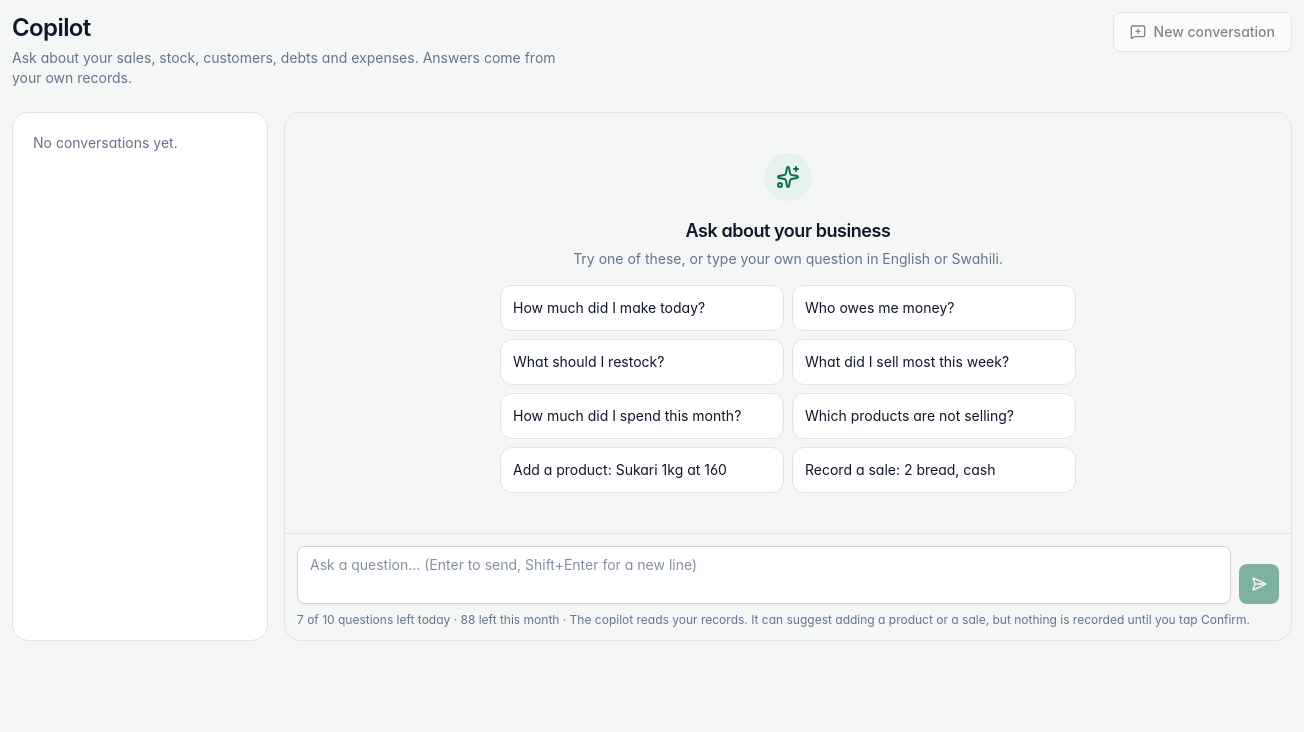
Test: AssistantPage › shows a safe error with retry when the assistant is unavailable, and a quota message without retry
Type "How much today?" into the text box named "Your question".
click(764, 575); type("How much today?")  # box [297,546,1231,604]
Then press Enter
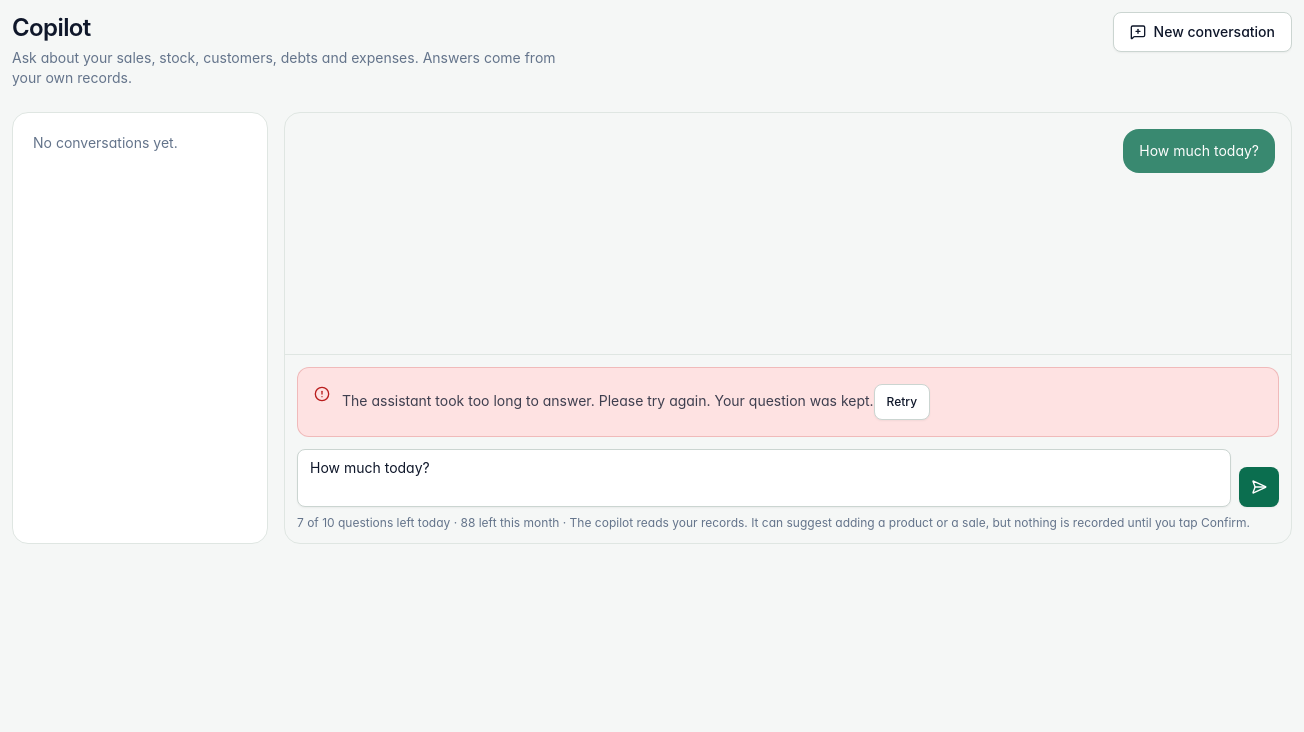
Expected: the message reads "The assistant took too long to answer. Please try again. Your question was kept.", [297,367,1279,437]
Click the button "Retry".
click(902, 402)  # box [874,384,930,420]
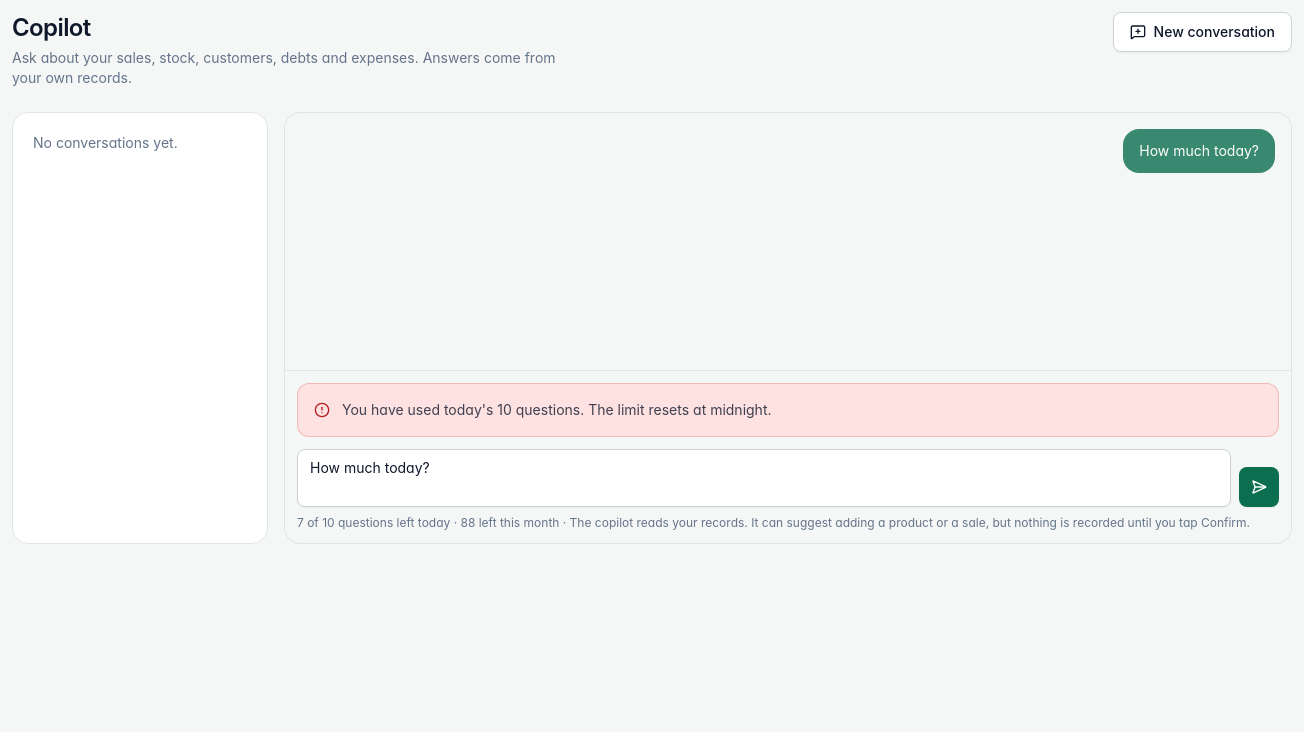
Expected: the message shows "You have used today's 10 questions", [342,401,772,418]
Expected: the button "Retry" is gone
